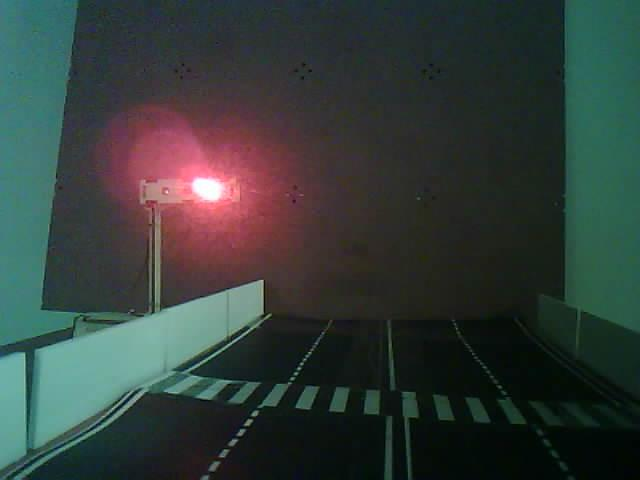crosswalk: (87, 341, 640, 453)
red: (78, 108, 323, 318)
